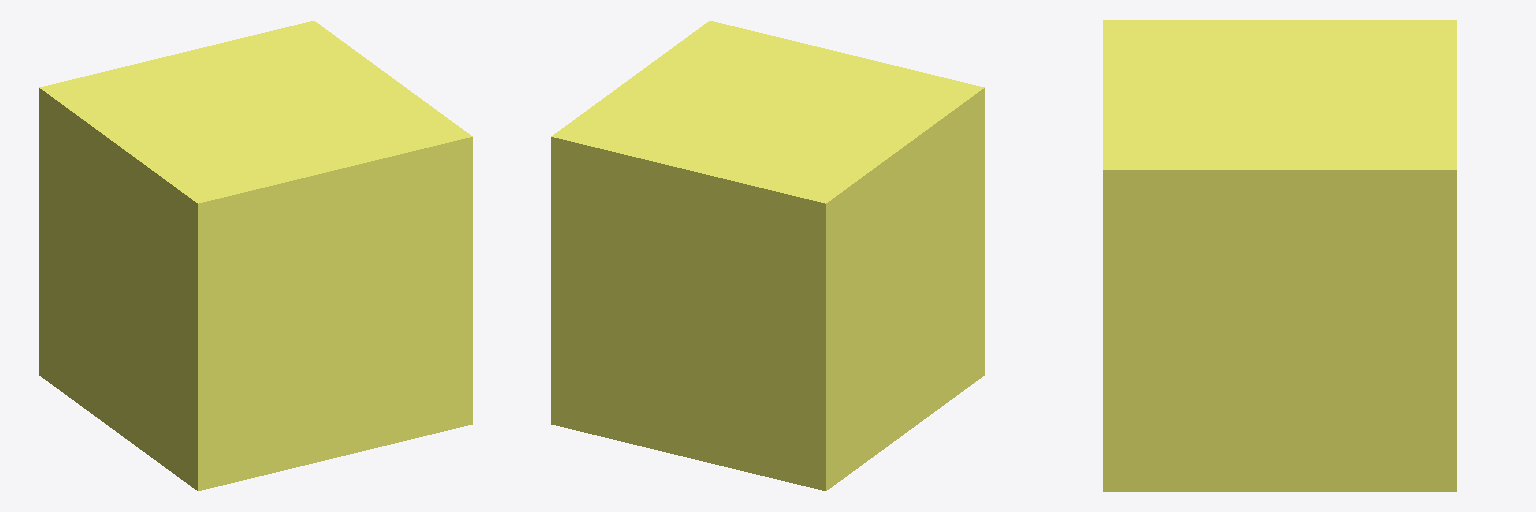
The robot description file, URDF, robot "fake_cube":
<?xml version="1.0"?>
<!-- Transparent cube for representing target location -->
<robot name="fake_cube" xmlns:xacro="http://ros.org/wiki/xacro">
  <link name="base_link">
    <inertial>
      <origin rpy="0 0 0" xyz="0 0 0"/>
      <mass value="0.0"/>
      <inertia ixx="0.1" ixy="0" ixz="0" iyy="0.1" iyz="0" izz="0.1"/>
    </inertial>
    <visual>
      <origin rpy="0 0 0" xyz="0 0 0"/>
      <geometry>
        <box size="0.06 0.06 0.06"/>
      </geometry>
      <material name="cube_yellow">
        <color rgba="1.0 1.0 0.5 0.4"/>
      </material>
    </visual>
  </link>
</robot>

--- Facts derived from the render (not from the file) ---
Views: 3 orthographic renders of the robot side by side, from view 1: azimuth 30°, elevation 25°; view 2: azimuth 150°, elevation 25°; view 3: azimuth 270°, elevation 25°.
Robot: fake_cube — 1 links, 0 joints (none); root link base_link; default pose: all joints at 0.
Links seen in each view (by area): view 1: base_link; view 2: base_link; view 3: base_link.
Link boxes in pixels (<box>): base_link: <box>39,21,472,490</box>; base_link: <box>551,21,984,490</box>; base_link: <box>1103,20,1456,491</box>.
Size in the robot's own frame: 0.06 by 0.06 by 0.06 metres.
Geometry: primitives only (box / cylinder / sphere), no mesh files.